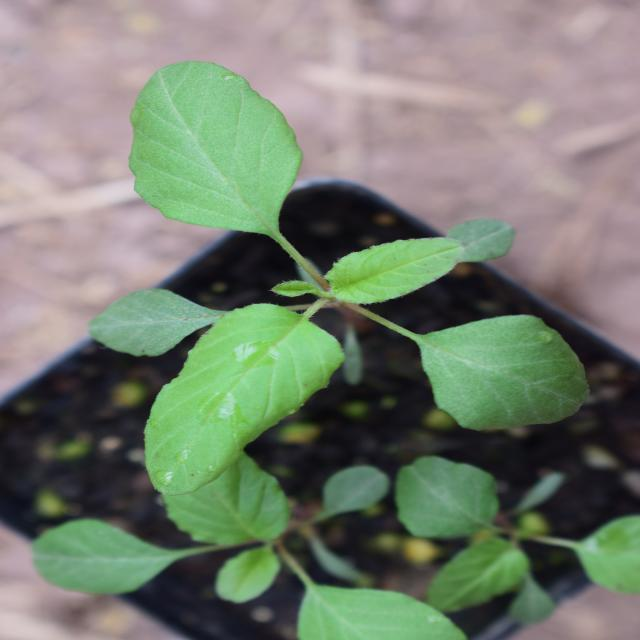pigweed: (153, 106, 583, 549)
